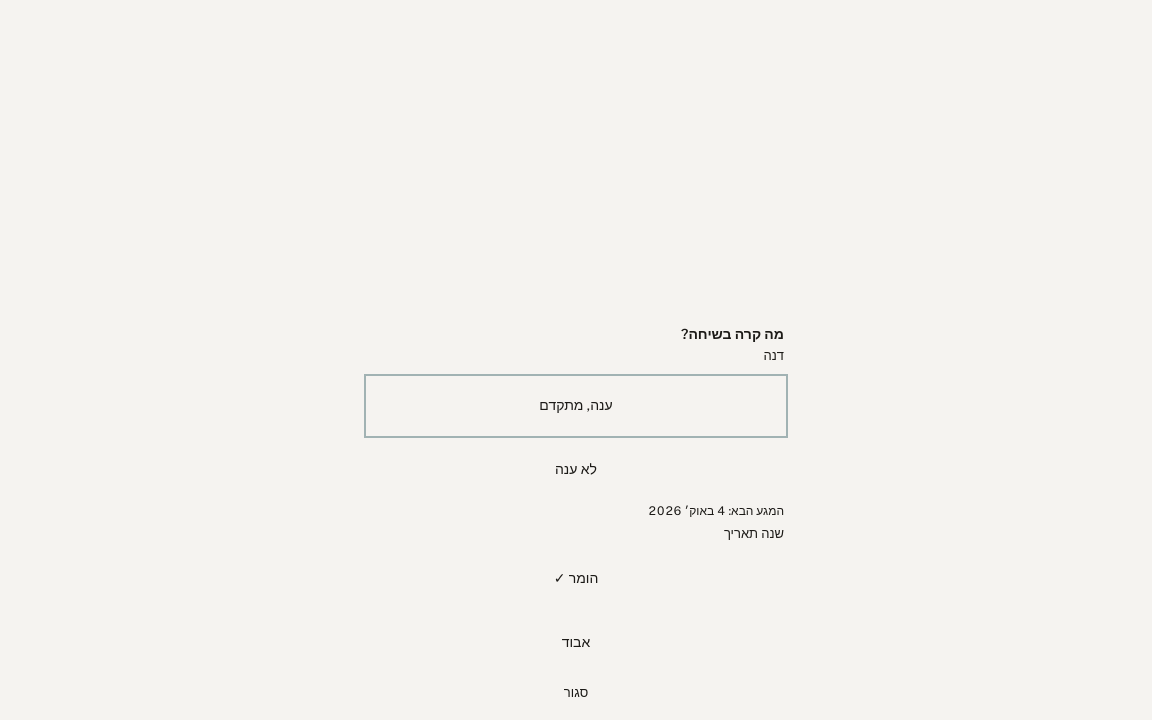
it: outcome sheet › forgets the declared outcome when the user goes back
The width and height of the screenshot is (1152, 720).
Click the button with test id "outcome-pick-date-no_answer": (754,533) [724,524,784,543]
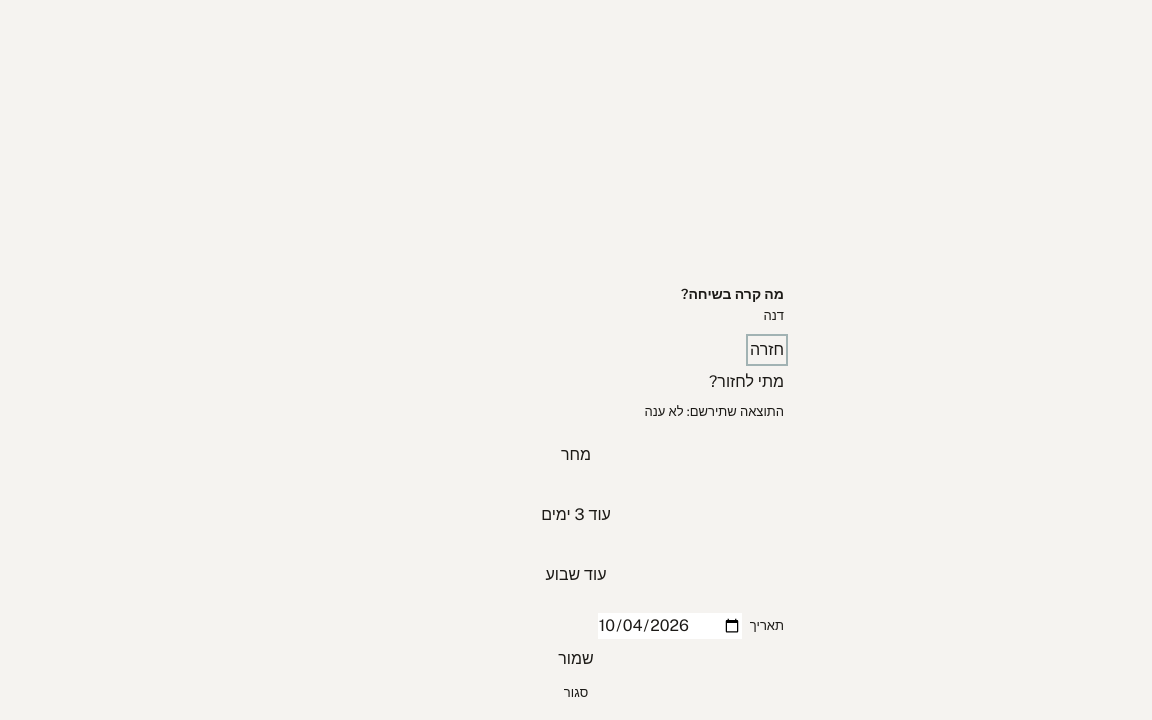
Click the button with test id "outcome-back": (767,350) [750,338,784,362]
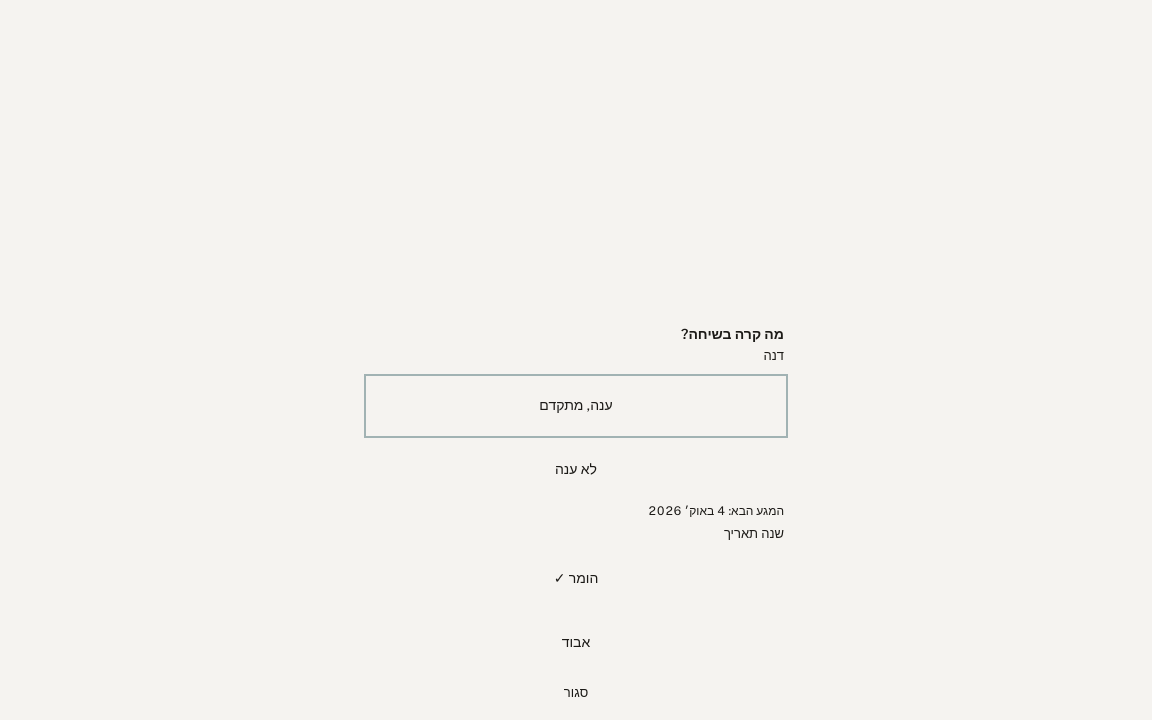
Click the button with test id "outcome-answered_progressing": (576,406) [368,378,784,434]
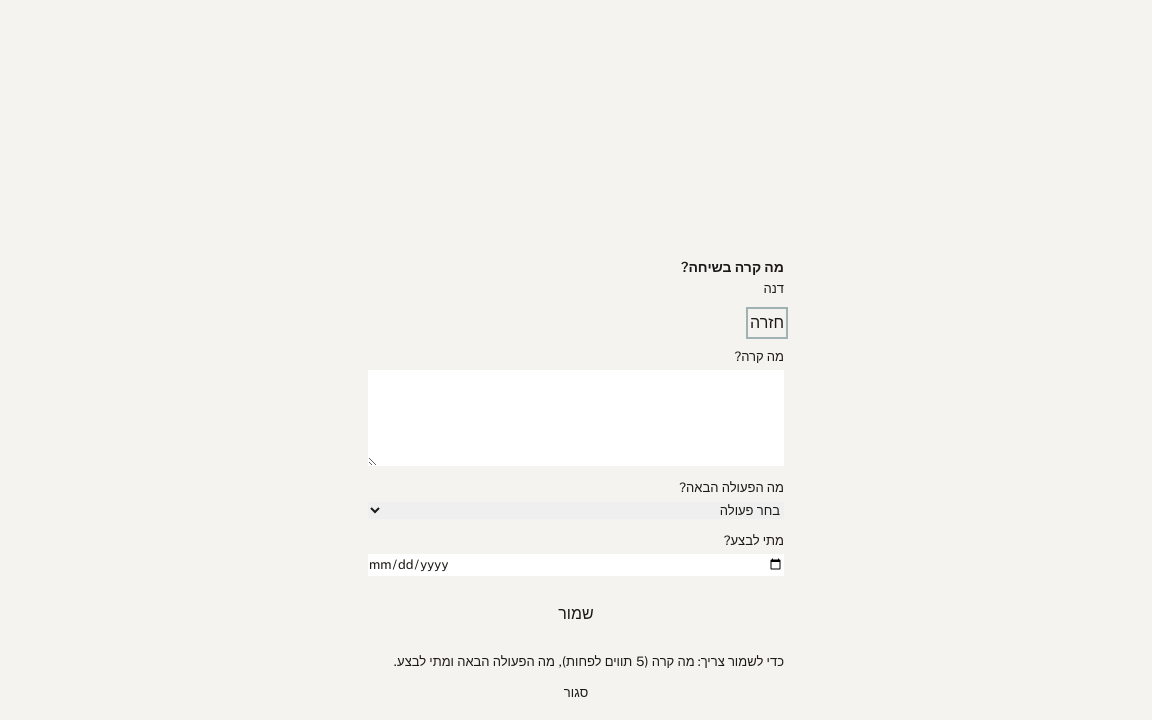
Check: the button with test id "activity-save" is shown, box [368,588,784,640]
